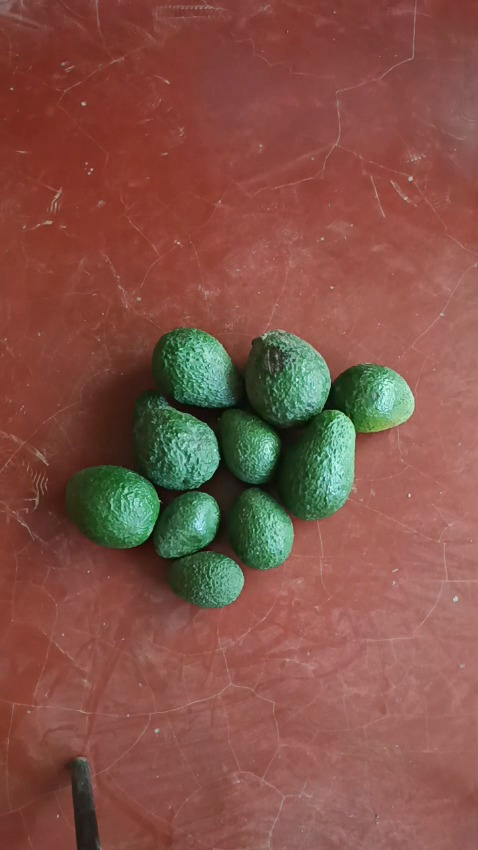Primera: (131, 391, 220, 490), (276, 410, 355, 519), (243, 329, 330, 427), (152, 327, 242, 409)
Segunda: (65, 464, 161, 548), (329, 362, 416, 433), (216, 407, 281, 484)
Tercera: (227, 488, 293, 569), (152, 490, 221, 560), (166, 551, 243, 607)
